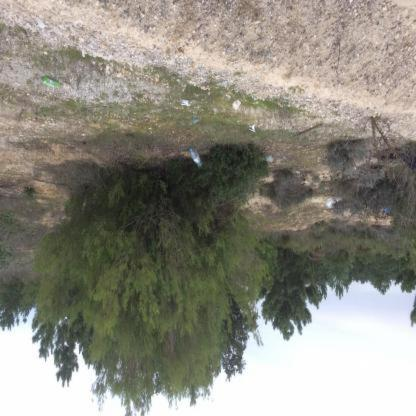Bottle: (190, 148, 193, 151)
Bottle cap: (190, 148, 204, 167)
Carton: (43, 77, 59, 88)
Unlabeled litter: (180, 100, 191, 107), (193, 119, 199, 124)
